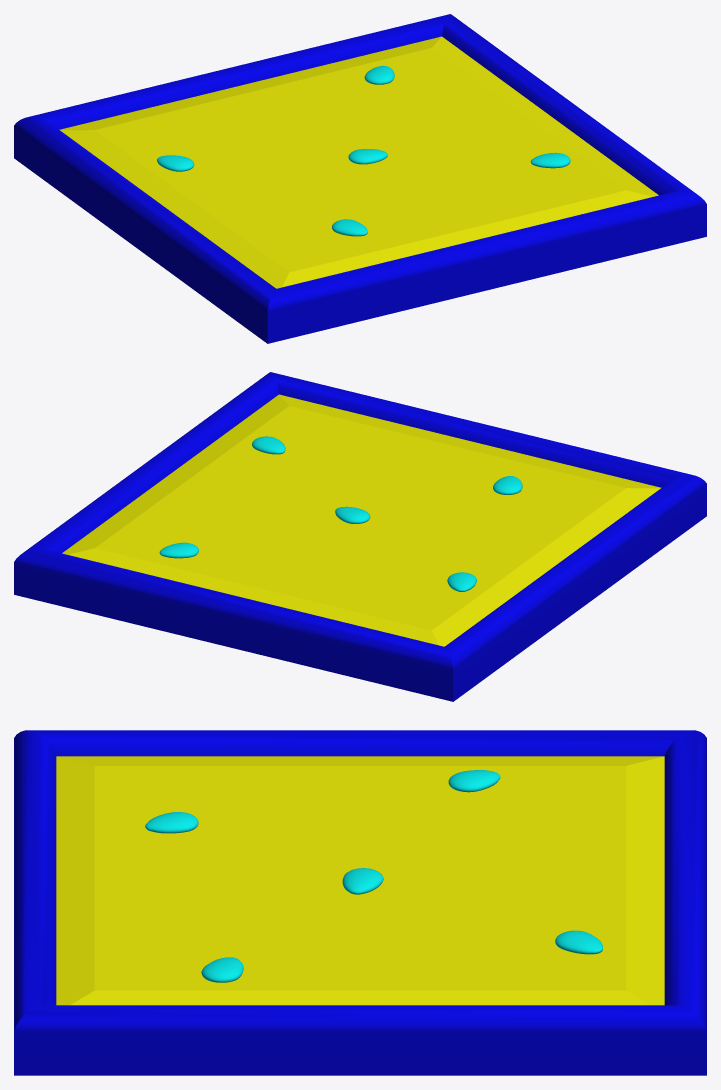
File: Stage_1.fbx
3 renders of one model, top to bottom at view 1: azimuth 30°, elevation 25°; view 2: azimuth 150°, elevation 25°; view 3: azimuth 270°, elevation 25°, orthographic. The views are drawn at different scales.
Parts seen in each view (by area): view 1: Apple_Dirt_Stage_1, Apple_Bed_Stage_1; view 2: Apple_Dirt_Stage_1, Apple_Bed_Stage_1; view 3: Apple_Dirt_Stage_1, Apple_Bed_Stage_1, Apple_Seed_1_Stage_1, Apple_Seed_1_Stage_3, Apple_Seed_1_Stage_4, Apple_Seed_1_Stage_5, Apple_Seed_1_Stage_2.
Part boxes in pixels (bbox=[...]): Apple_Dirt_Stage_1: bbox=[59, 36, 658, 288]; Apple_Bed_Stage_1: bbox=[14, 14, 706, 343]; Apple_Dirt_Stage_1: bbox=[62, 394, 661, 646]; Apple_Bed_Stage_1: bbox=[14, 372, 706, 701]; Apple_Dirt_Stage_1: bbox=[56, 756, 664, 1005]; Apple_Bed_Stage_1: bbox=[14, 730, 706, 1075]; Apple_Seed_1_Stage_1: bbox=[145, 812, 198, 833]; Apple_Seed_1_Stage_3: bbox=[448, 770, 500, 792]; Apple_Seed_1_Stage_4: bbox=[555, 930, 602, 954]; Apple_Seed_1_Stage_5: bbox=[342, 868, 383, 894]; Apple_Seed_1_Stage_2: bbox=[201, 957, 243, 982].
Size of the model in its own units: 4.24 by 0.4021 by 4.24.
